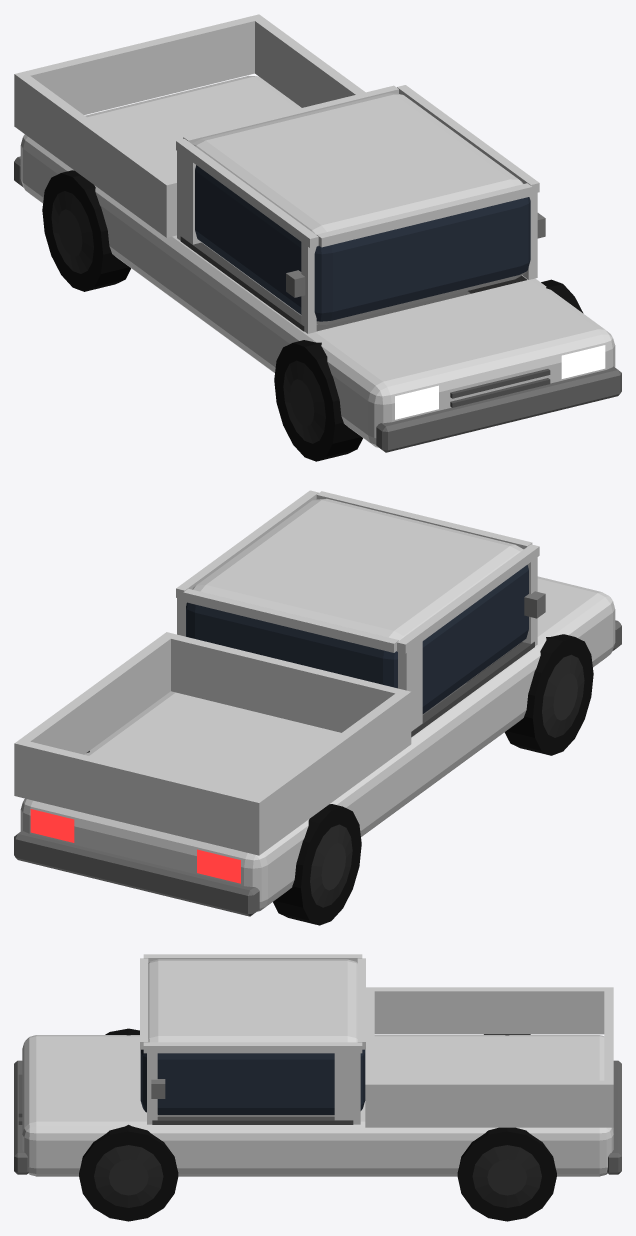
The model's file is pickup.glb.
The picture shows the model from 3 angles, top to bottom: view 1: azimuth 30°, elevation 25°; view 2: azimuth 150°, elevation 25°; view 3: azimuth 270°, elevation 25°; orthographic projection. The views are drawn at different scales.
Parts seen in each view (by area): view 1: Body, WheelFL, WheelRL; view 2: Body, WheelFL, WheelRL; view 3: Body, WheelFR, WheelRR.
Part boxes in pixels (left/top/right/bottom): Body: left=14, top=14, right=621, bottom=452; WheelFL: left=274, top=340, right=362, bottom=461; WheelRL: left=42, top=170, right=130, bottom=291; Body: left=14, top=490, right=621, bottom=916; WheelFL: left=504, top=634, right=593, bottom=755; WheelRL: left=273, top=804, right=361, bottom=925; Body: left=14, top=954, right=621, bottom=1176; WheelFR: left=79, top=1124, right=178, bottom=1221; WheelRR: left=457, top=1127, right=556, bottom=1221.
Size of the model in its own units: 2.1 by 1.6 by 5.14.
